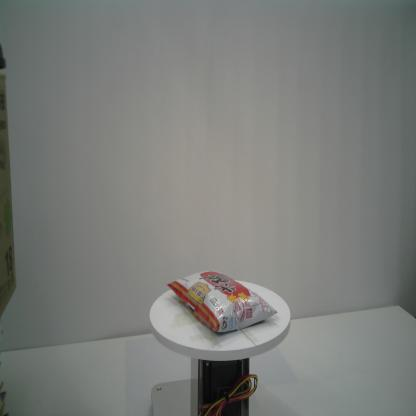Seasoner: (166, 267, 279, 336)
